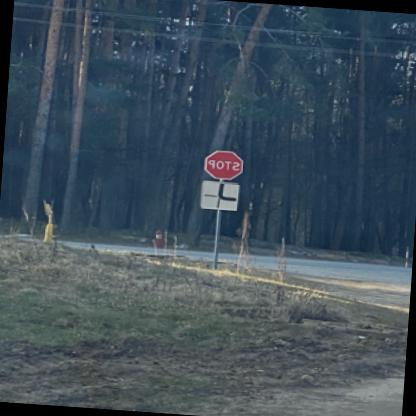stop: (206, 148, 245, 180)
